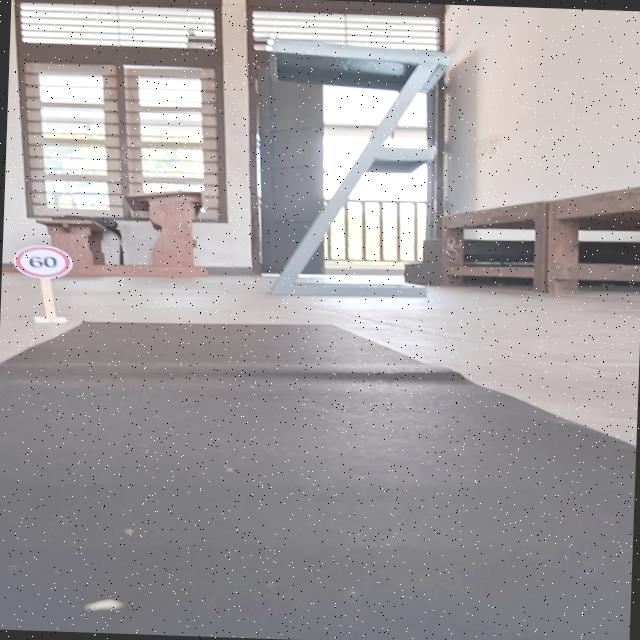Speed60: (9, 243, 75, 280)
